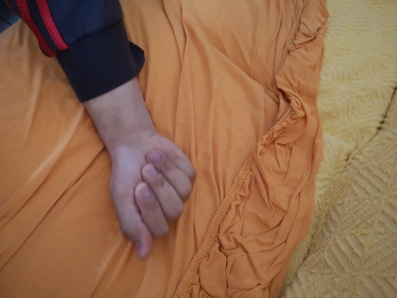A: (108, 127, 200, 260)
